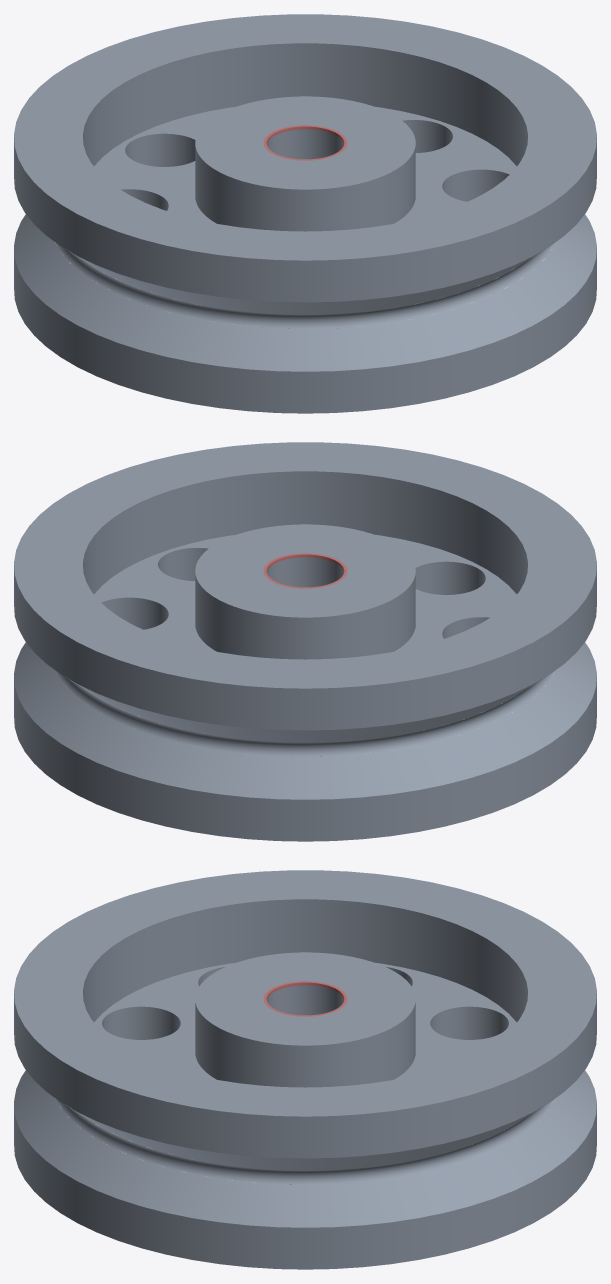
File: step_05.glb
3 renders of one model, top to bottom at view 1: azimuth 30°, elevation 25°; view 2: azimuth 150°, elevation 25°; view 3: azimuth 270°, elevation 25°, orthographic.
Parts seen in each view (by area): view 1: part__V-belt pulley, removed__V-belt pulley; view 2: part__V-belt pulley, removed__V-belt pulley; view 3: part__V-belt pulley, removed__V-belt pulley.
Part boxes in pixels (bbox=[...]): part__V-belt pulley: bbox=[14, 14, 596, 413]; removed__V-belt pulley: bbox=[263, 125, 347, 160]; part__V-belt pulley: bbox=[14, 442, 596, 841]; removed__V-belt pulley: bbox=[263, 553, 347, 588]; part__V-belt pulley: bbox=[14, 870, 596, 1269]; removed__V-belt pulley: bbox=[263, 981, 347, 1016].
Size of the model in its own units: 143 by 41.4 by 143.
